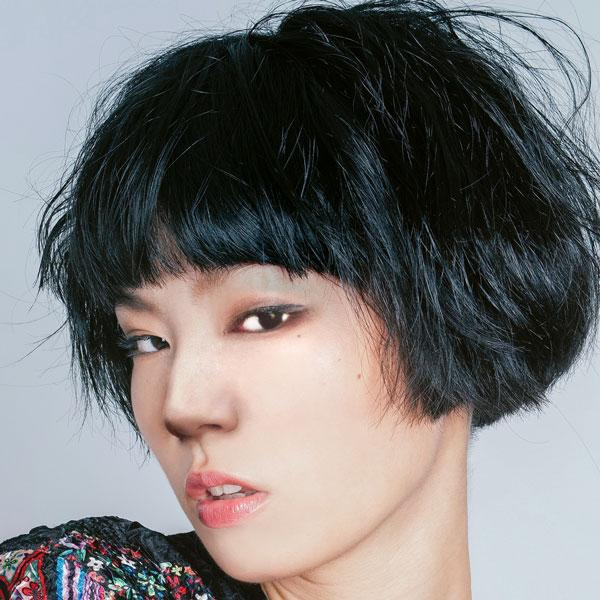Eyes: (223, 292, 315, 344), (125, 321, 175, 368)
